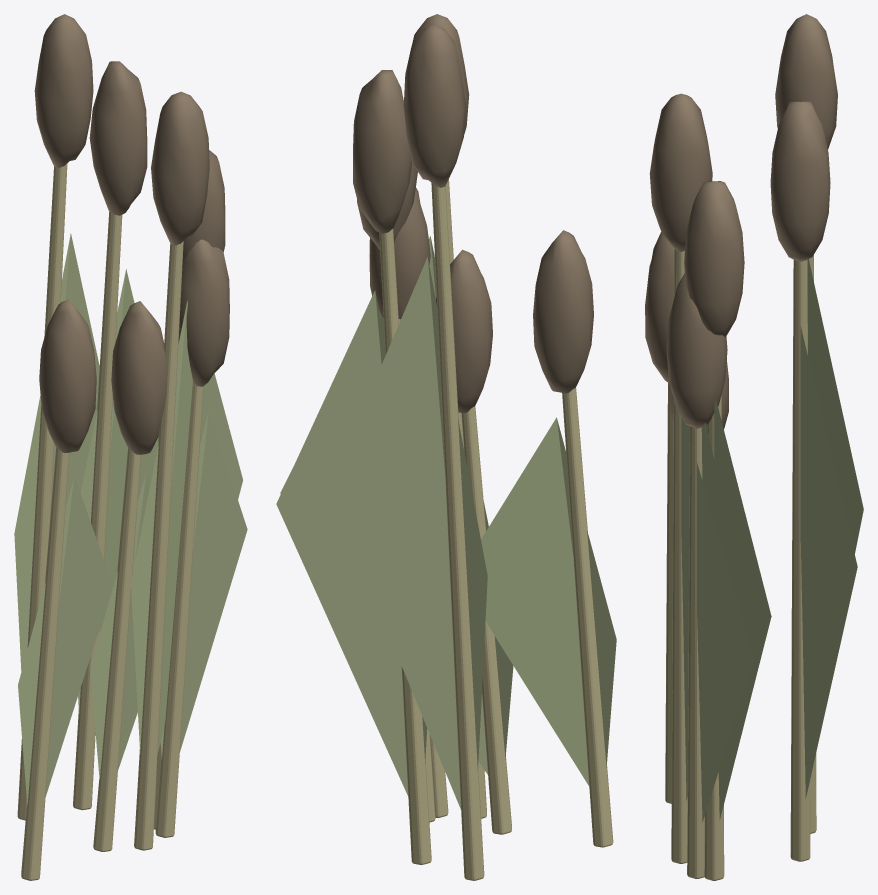
File: SM_Reeds_UV8548.fbx
3 renders of one model, left to right at view 1: azimuth 30°, elevation 25°; view 2: azimuth 150°, elevation 25°; view 3: azimuth 270°, elevation 25°, orthographic. The views are drawn at different scales.
Parts seen in each view (by area): view 1: SM_Reeds_UV8548; view 2: SM_Reeds_UV8548; view 3: SM_Reeds_UV8548.
Boxes of the visible parts, x1,y1,x2,y2 form: SM_Reeds_UV8548: (14,14,247,880); SM_Reeds_UV8548: (276,14,616,880); SM_Reeds_UV8548: (645,14,863,880).
Bounding box in the file's own units: 86.38 × 57.34 × 242.
